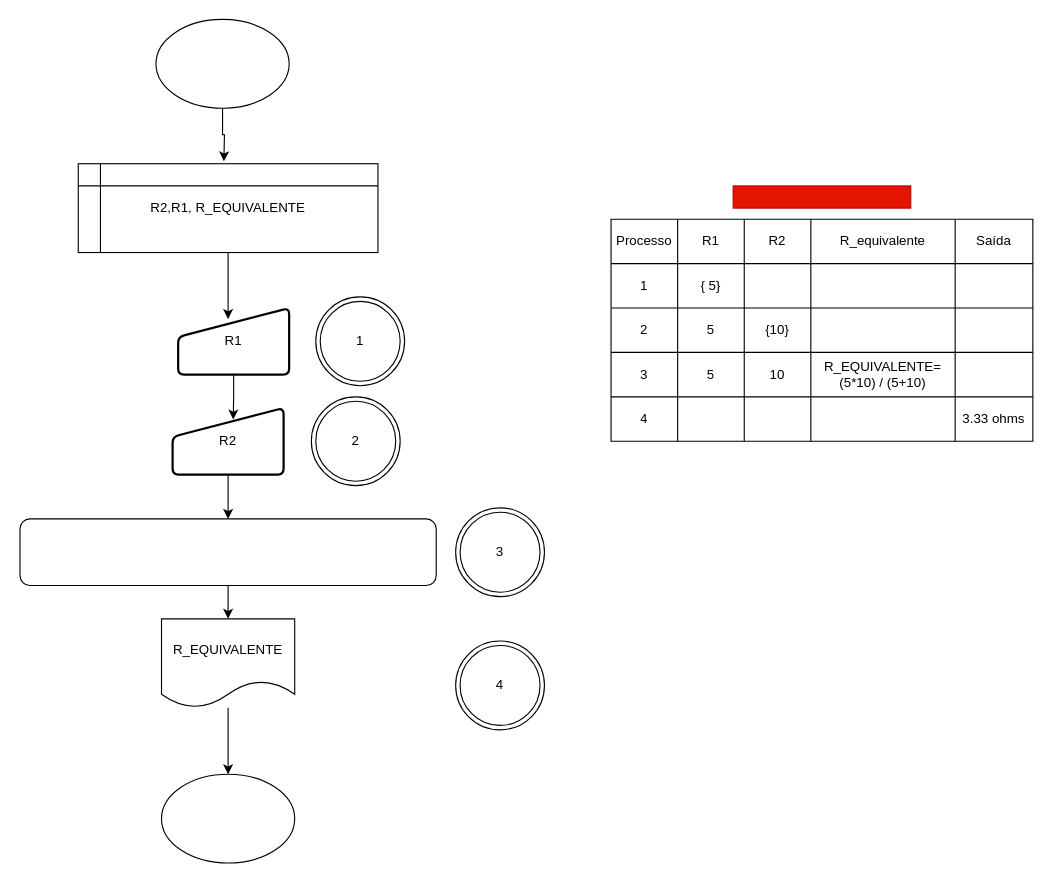
Some shapes in this 1052 by 882 pixel diagram are drawn without their labels. The shapes that lost their labels are listed below. From the top down, each one's centre as x and y in pixels, then its label:
At pixel 222 63: "INÍCIO".
At pixel 821 196: "TESTE DE MESA".
At pixel 227 552: "R_EQUIVALENTE= (R1*R2) / (R1+ R2)".
At pixel 227 818: "FiM".
